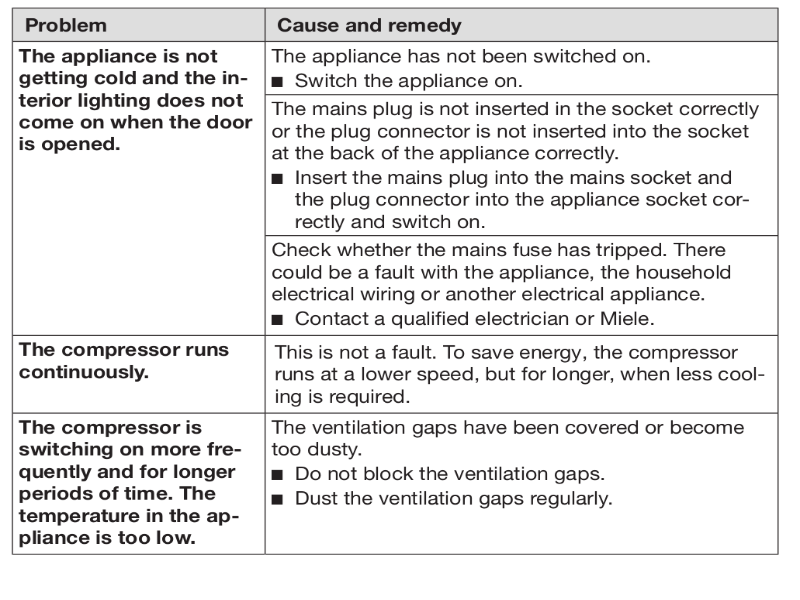border: (7, 5, 786, 563)
cell: (269, 99, 770, 232), (269, 418, 775, 525), (269, 241, 772, 330), (269, 340, 774, 407), (15, 417, 257, 547), (15, 46, 257, 156), (271, 44, 697, 91), (15, 339, 238, 387), (273, 14, 475, 38), (20, 12, 133, 38)
